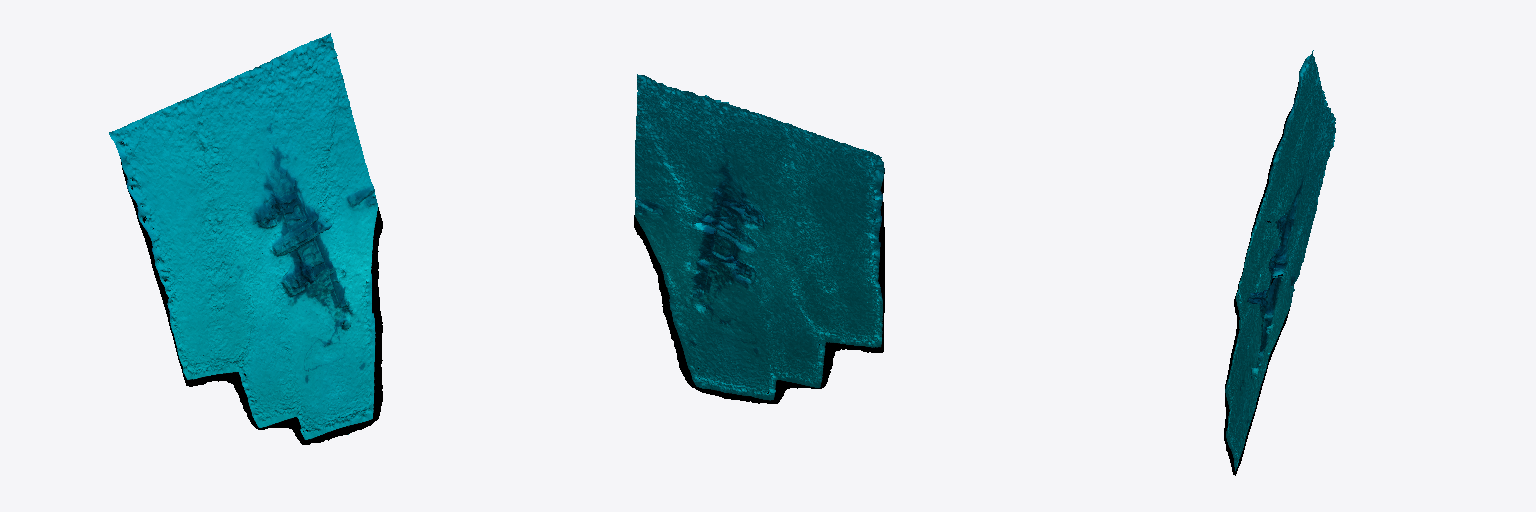
3 views of the same model, side by side, from view 1: azimuth 30°, elevation 25°; view 2: azimuth 150°, elevation 25°; view 3: azimuth 270°, elevation 25° (orthographic).
Size of the model in its own units: 98.51 by 128 by 36.9.
1 materials, 1 textured.